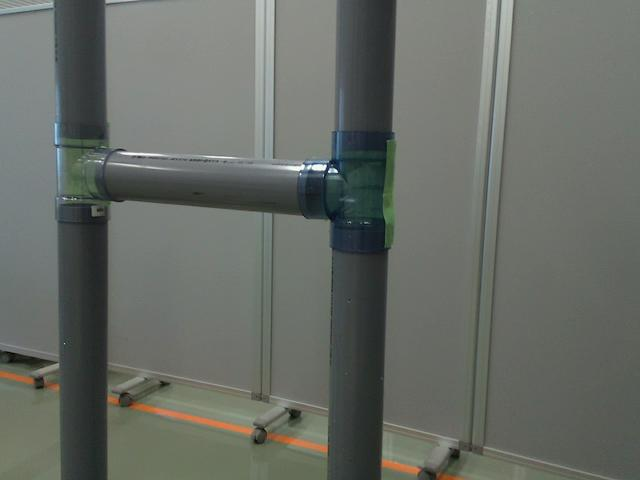junction: (302, 131, 400, 253), (53, 120, 129, 229)
